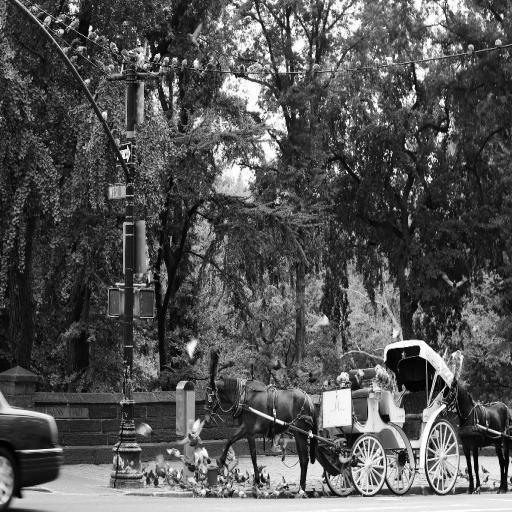horse: (206, 374, 328, 488), (444, 376, 510, 493)
